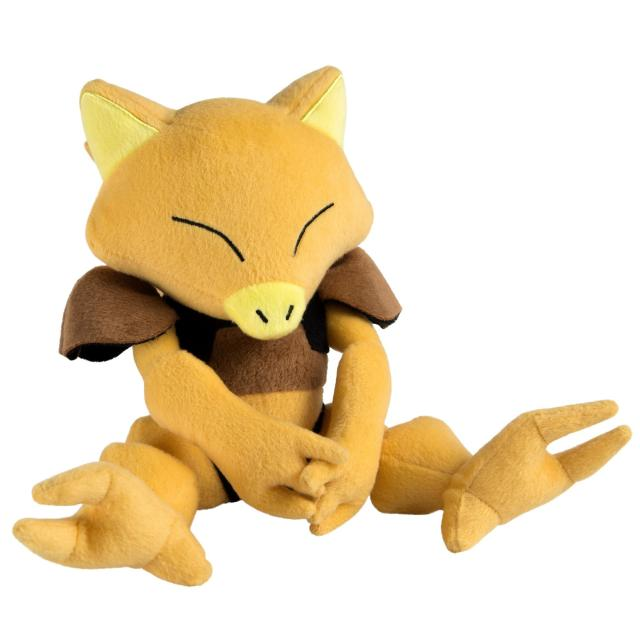Abra: (14, 44, 601, 598)
